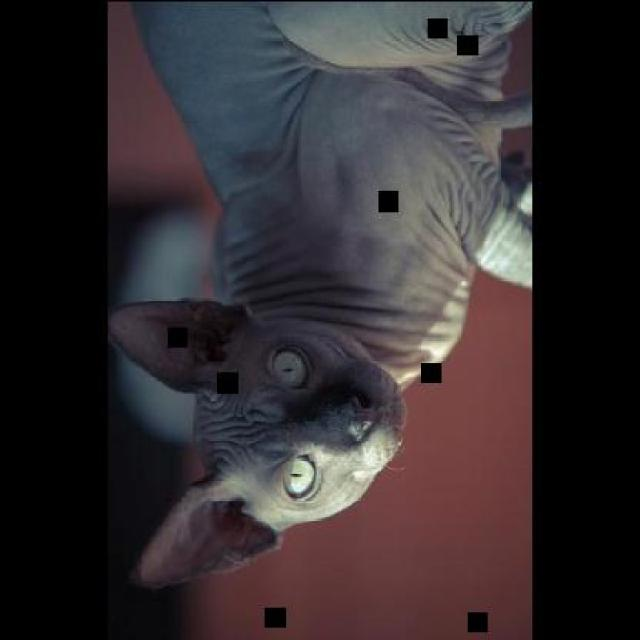unauthorized: (106, 0, 532, 589), (108, 296, 408, 590)
